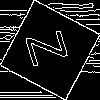Z: (25, 25, 78, 68)
